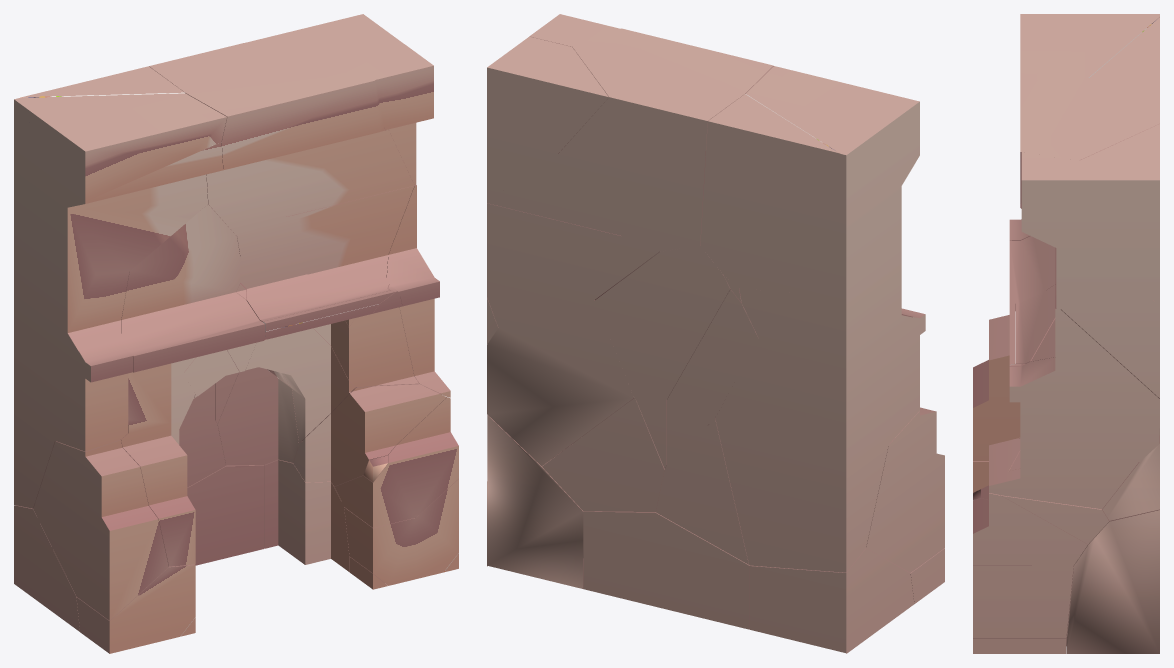
The model's file is Gate_Fractured.fbx.
3 renders of one model, left to right at view 1: azimuth 30°, elevation 25°; view 2: azimuth 150°, elevation 25°; view 3: azimuth 270°, elevation 25°, orthographic. The views are drawn at different scales.
Parts seen in each view (by area): view 1: Cube.002_cell.029, Cube.002_cell.022, Cube.002_cell.007, Cube.002_cell.036, Cube.002_cell.024, Cube.002_cell.025, Cube.002_cell.006, Cube.002_cell.023, Cube.002_cell.002, Cube.002_cell.032, Cube.002_cell.037, Cube.002_cell.035 (+19 smaller); view 2: Cube.002_cell.022, Cube.002_cell.029, Cube.002_cell.028, Cube.002_cell.025, Cube.002_cell.033, Cube.002_cell.035, Cube.002_cell.006, Cube.002_cell.011, Cube.002_cell.015, Cube.002_cell, Cube.002_cell.026, Cube.002_cell.024 (+9 smaller); view 3: Cube.002_cell.021, Cube.002_cell.026, Cube.002_cell.029, Cube.002_cell.015, Cube.002_cell.027, Cube.002_cell.031, Cube.002_cell.013, Cube.002_cell.024, Cube.002_cell.002, Cube.002_cell.006, Cube.002_cell.020, Cube.002_cell.023 (+10 smaller).
Part boxes in pixels (bbox=[...]): Cube.002_cell.029: bbox=[149, 43, 383, 236]; Cube.002_cell.022: bbox=[14, 66, 223, 277]; Cube.002_cell.007: bbox=[121, 204, 265, 433]; Cube.002_cell.036: bbox=[33, 440, 168, 620]; Cube.002_cell.024: bbox=[14, 93, 226, 201]; Cube.002_cell.025: bbox=[14, 238, 129, 441]; Cube.002_cell.006: bbox=[237, 185, 414, 278]; Cube.002_cell.023: bbox=[293, 383, 446, 486]; Cube.002_cell.002: bbox=[334, 397, 458, 527]; Cube.002_cell.032: bbox=[264, 459, 350, 571]; Cube.002_cell.037: bbox=[217, 367, 301, 465]; Cube.002_cell.035: bbox=[187, 465, 264, 565]; Cube.002_cell.022: bbox=[700, 94, 919, 297]; Cube.002_cell.029: bbox=[558, 28, 773, 251]; Cube.002_cell.028: bbox=[715, 339, 888, 572]; Cube.002_cell.025: bbox=[739, 258, 912, 446]; Cube.002_cell.033: bbox=[487, 300, 633, 466]; Cube.002_cell.035: bbox=[583, 511, 749, 629]; Cube.002_cell.006: bbox=[487, 203, 659, 327]; Cube.002_cell.011: bbox=[594, 246, 732, 399]; Cube.002_cell.015: bbox=[487, 36, 608, 200]; Cube.002_cell: bbox=[750, 548, 914, 653]; Cube.002_cell.026: bbox=[487, 415, 583, 588]; Cube.002_cell.024: bbox=[746, 66, 919, 156]; Cube.002_cell.021: bbox=[1009, 308, 1159, 461]; Cube.002_cell.026: bbox=[1066, 510, 1159, 653]; Cube.002_cell.029: bbox=[1020, 78, 1159, 203]; Cube.002_cell.015: bbox=[1079, 124, 1159, 306]; Cube.002_cell.027: bbox=[989, 392, 1138, 509]; Cube.002_cell.031: bbox=[1021, 152, 1114, 309]; Cube.002_cell.013: bbox=[973, 566, 1073, 645]; Cube.002_cell.024: bbox=[1020, 14, 1159, 81]; Cube.002_cell.002: bbox=[973, 493, 1087, 566]; Cube.002_cell.006: bbox=[1031, 309, 1159, 398]; Cube.002_cell.020: bbox=[973, 332, 1020, 461]; Cube.002_cell.023: bbox=[981, 438, 1109, 544].
Bounding box in the file's own units: 335 × 444 × 159.
